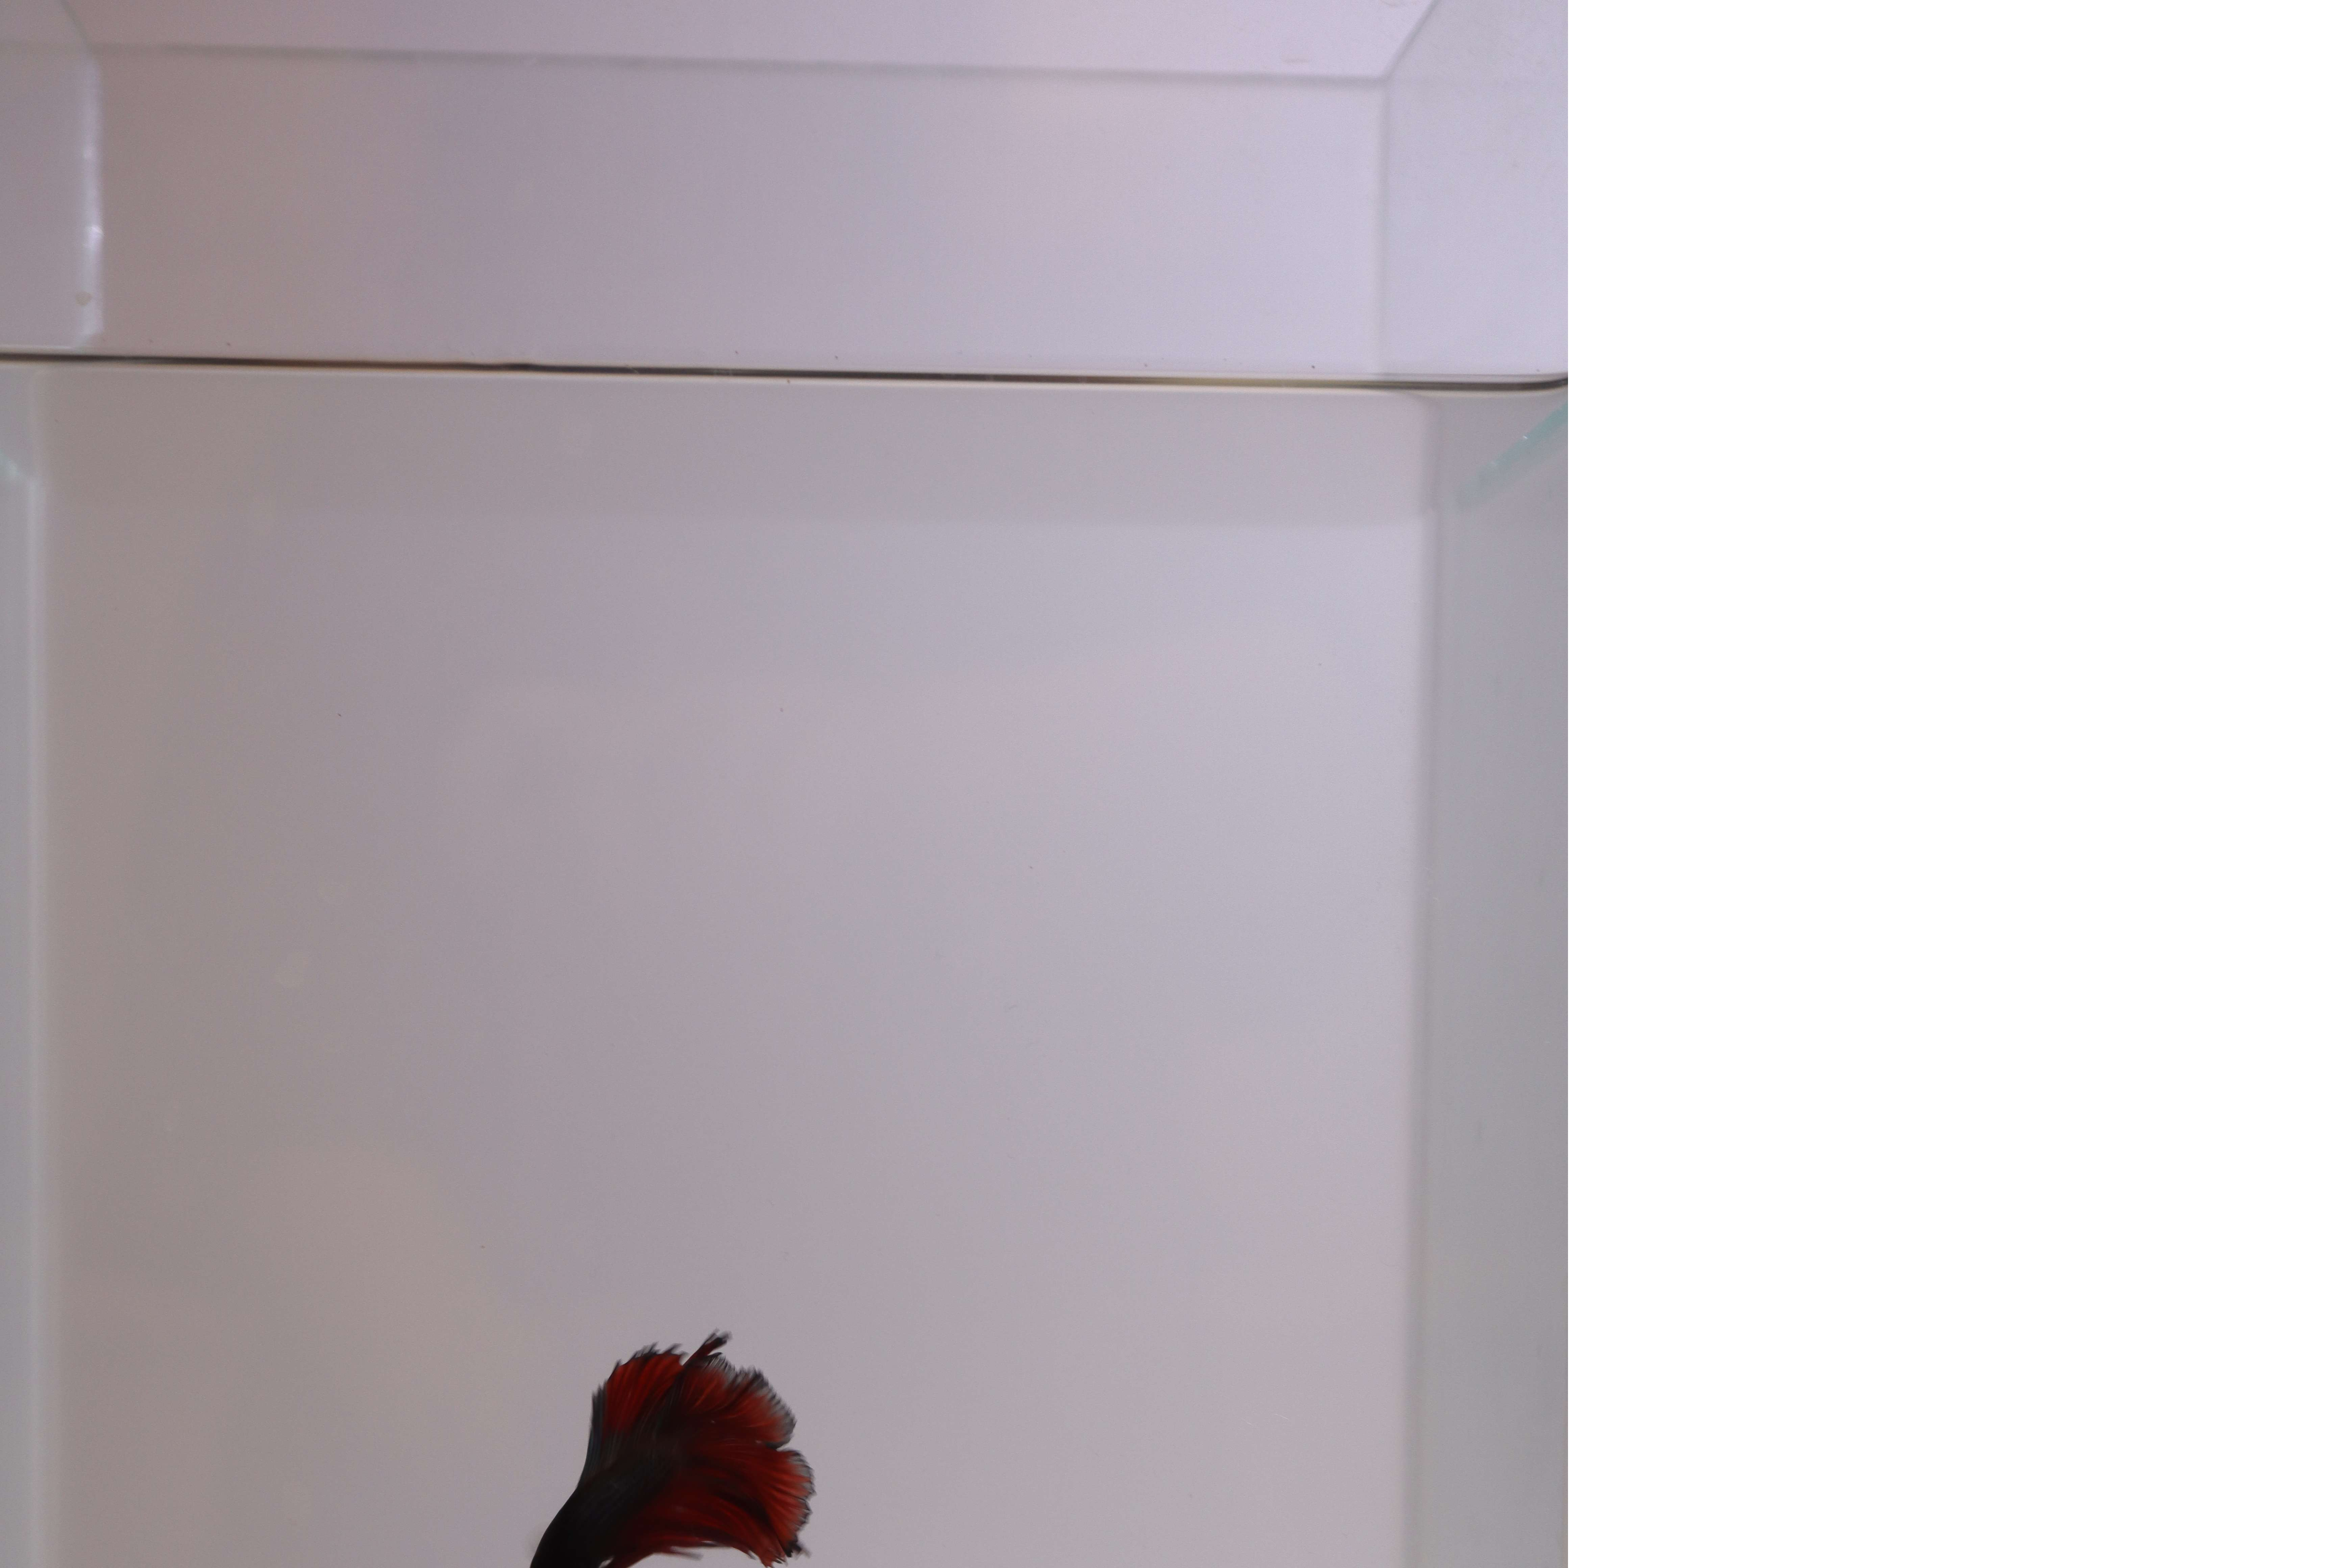fish: (480, 1327, 828, 1566)
